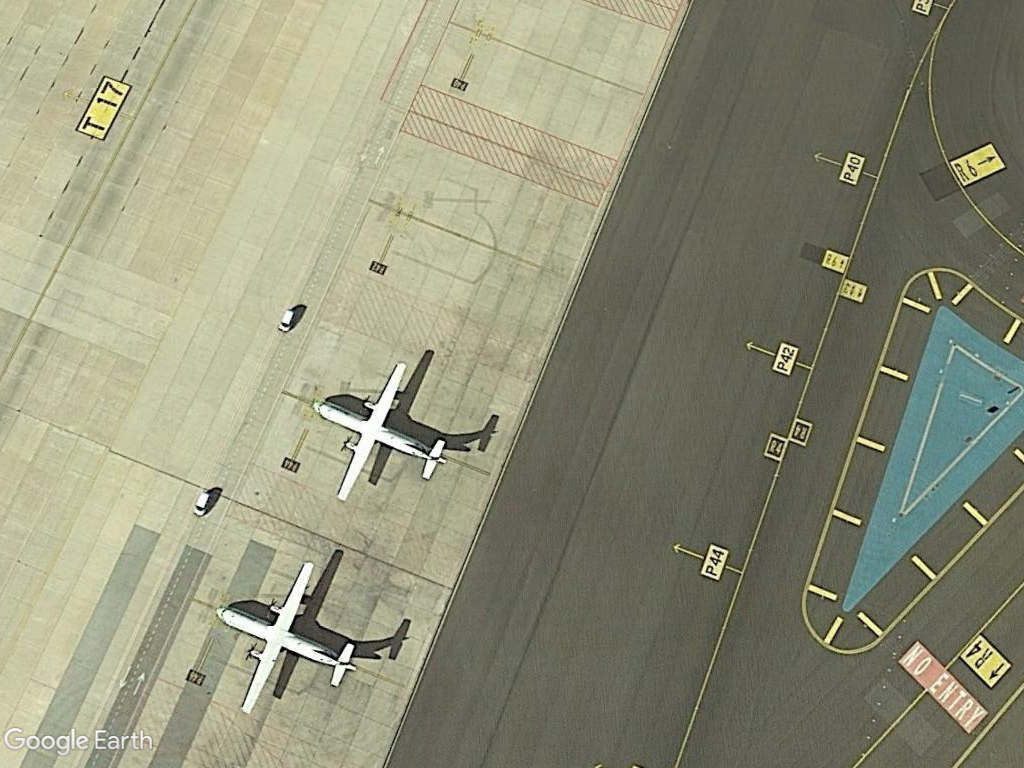propeller: (207, 554, 369, 724), (307, 354, 455, 508)
